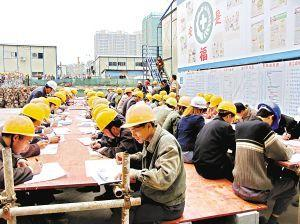helmet: (124, 105, 157, 128), (2, 117, 39, 137), (92, 108, 117, 132), (23, 105, 51, 123), (219, 102, 238, 115), (47, 96, 62, 108), (192, 98, 208, 109), (89, 97, 112, 104), (211, 96, 223, 108), (61, 89, 75, 98), (180, 97, 191, 108), (198, 92, 213, 100), (154, 95, 163, 105), (160, 89, 171, 97), (168, 99, 178, 107), (56, 92, 66, 100), (47, 82, 57, 89), (96, 104, 110, 109), (168, 93, 177, 100), (137, 92, 144, 100), (146, 93, 153, 101), (98, 93, 106, 98), (90, 92, 98, 97), (127, 89, 134, 94), (89, 90, 96, 95)
